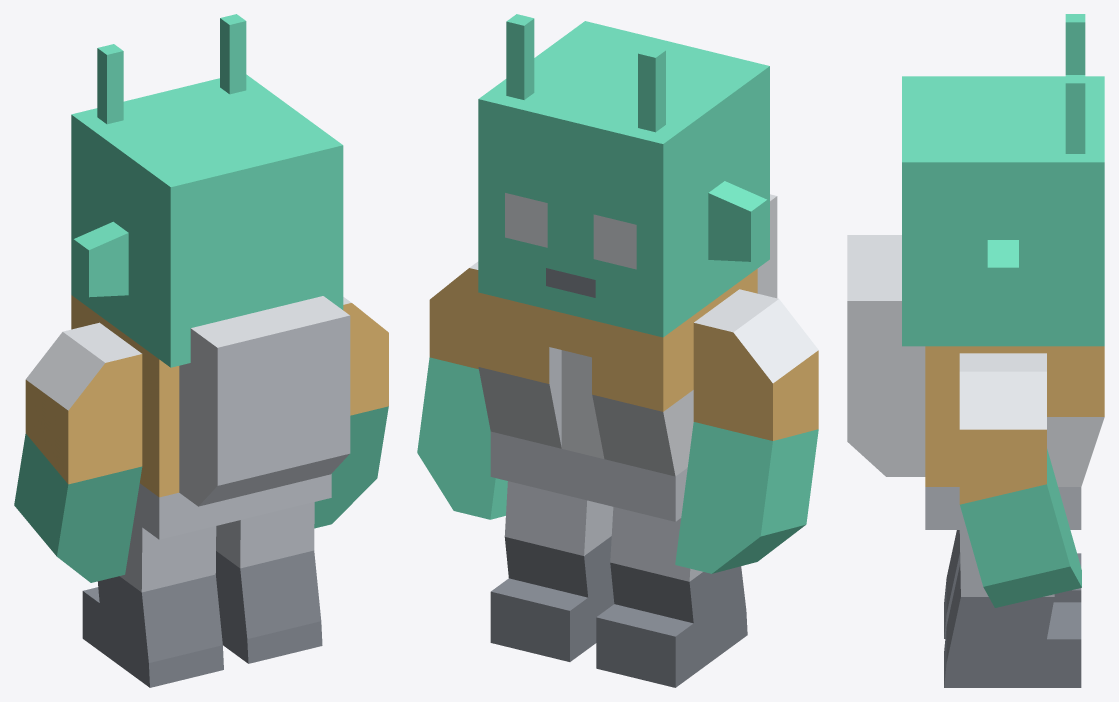
The model's file is alien.gltf.
The picture shows the model from 3 angles, left to right: view 1: azimuth 30°, elevation 25°; view 2: azimuth 150°, elevation 25°; view 3: azimuth 270°, elevation 25°; orthographic projection. The views are drawn at different scales.
Visible parts, largest first — view 1: head, body, armLeft, legLeft, legRight, armRight; view 2: head, body, armLeft, legLeft, legRight, armRight; view 3: head, body, armRight, legRight, legLeft.
Boxes of the visible parts, x1,y1,x2,y2 form: head: (71, 14, 343, 367); body: (71, 295, 350, 539); armLeft: (14, 322, 142, 582); legLeft: (82, 521, 223, 687); legRight: (215, 502, 322, 663); armRight: (314, 297, 388, 528); head: (478, 14, 769, 337); body: (478, 194, 777, 521); armLeft: (675, 289, 818, 573); legLeft: (596, 507, 747, 687); legRight: (490, 481, 614, 661); armRight: (417, 261, 507, 519); head: (902, 14, 1104, 346); body: (847, 235, 1104, 529); armRight: (959, 353, 1081, 607); legRight: (944, 530, 1081, 687); legLeft: (944, 530, 1081, 638).
Bounding box in the file's own units: 0.4832 × 0.8432 × 0.33.
